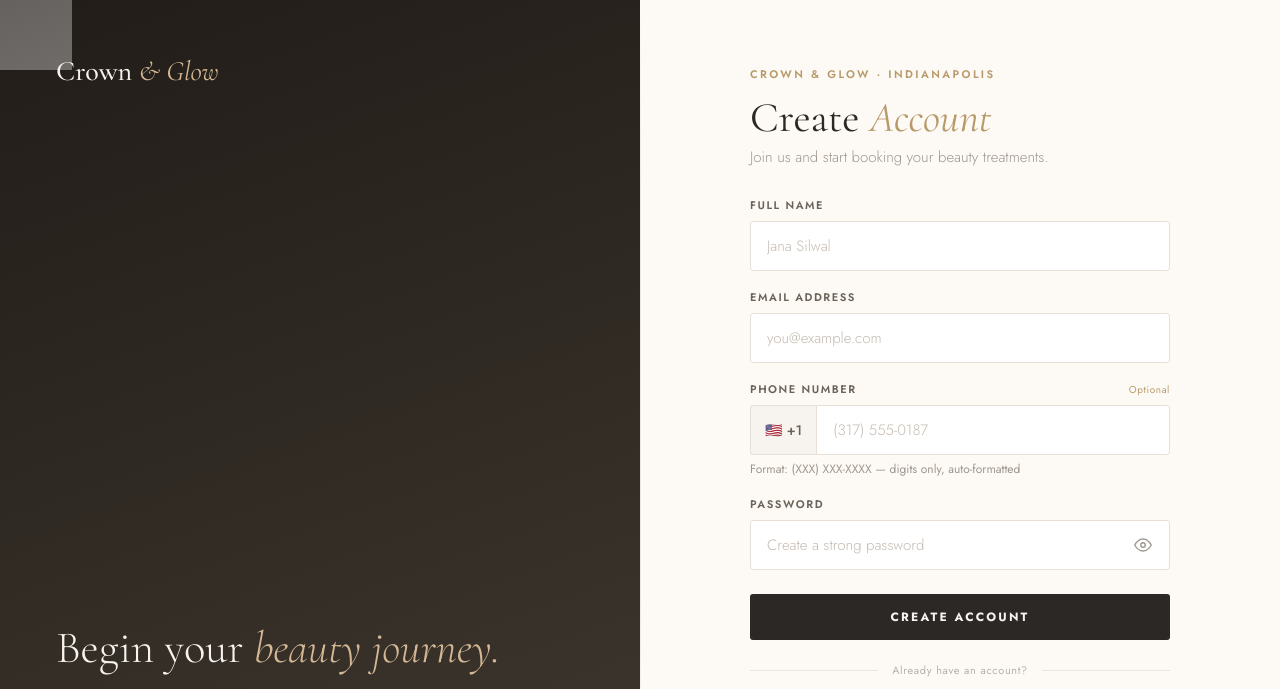
Test case: <RegisterPage /> › registers successfully and shows the check-your-email confirmation
Type "Jane Doe" into the field labelled "Full Name".
click(960, 246); type("Jane Doe")  # box [750, 221, 1170, 271]
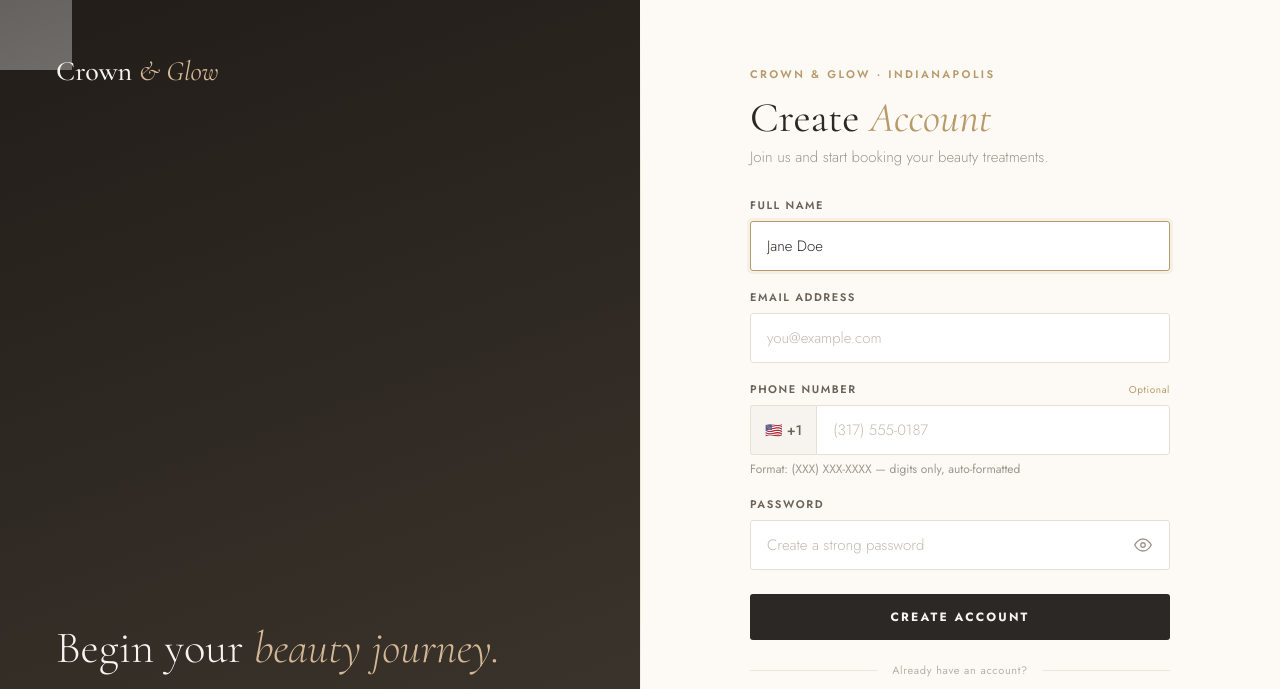
Type "jane@example.com" into the field labelled "Email Address".
click(960, 338); type("jane@example.com")  # box [750, 313, 1170, 363]
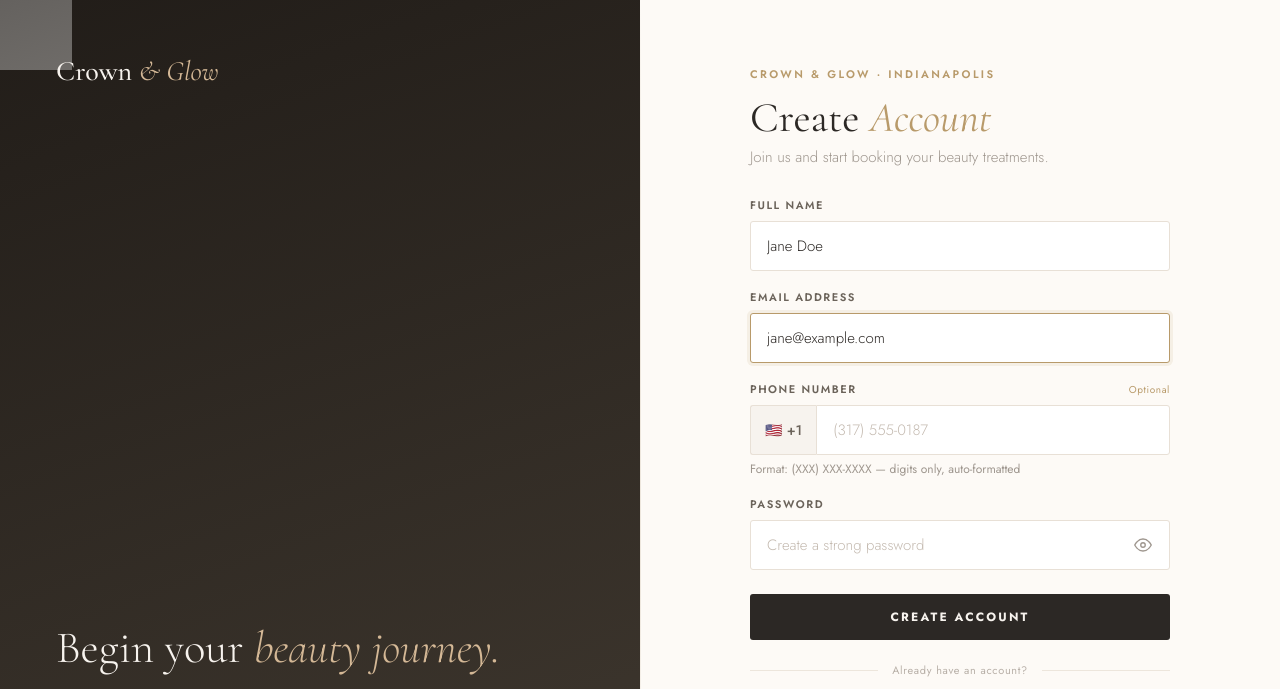
Type "TestPass123!" into the password field labelled "Password".
click(960, 545); type("TestPass123!")  # box [750, 520, 1170, 570]
(page scrolled)
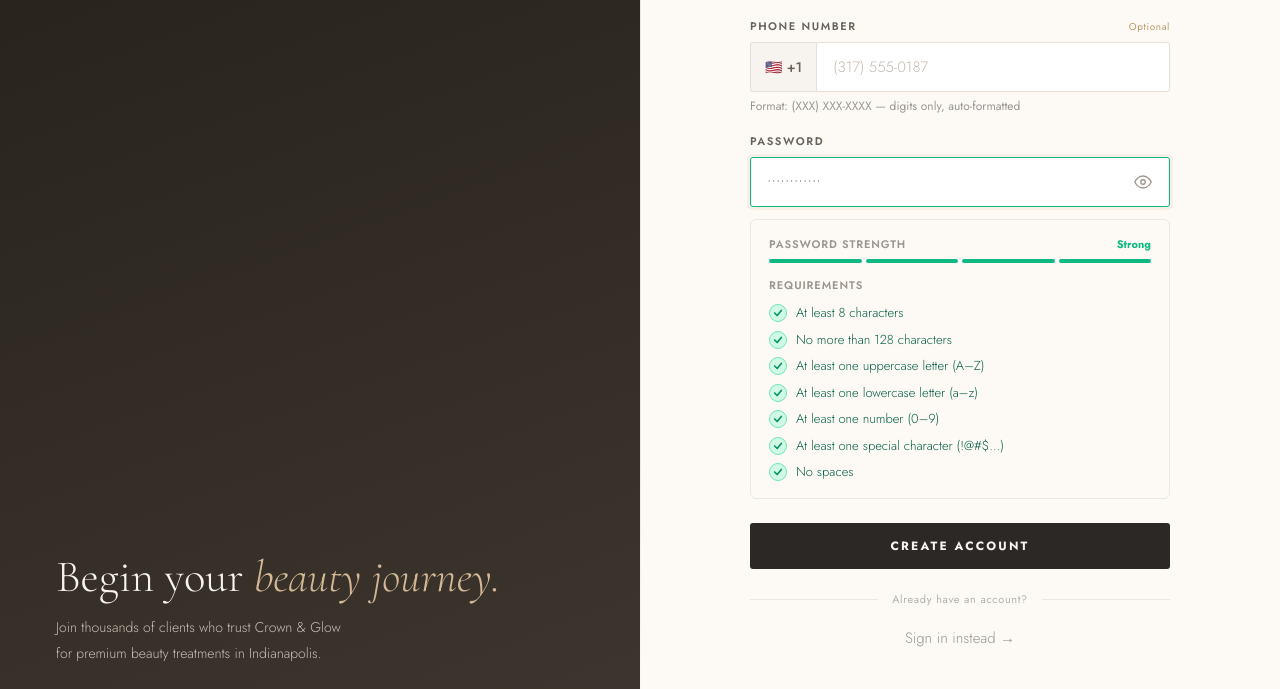
Click the button "Create Account".
click(960, 546)  # box [750, 523, 1170, 569]
(page scrolled)
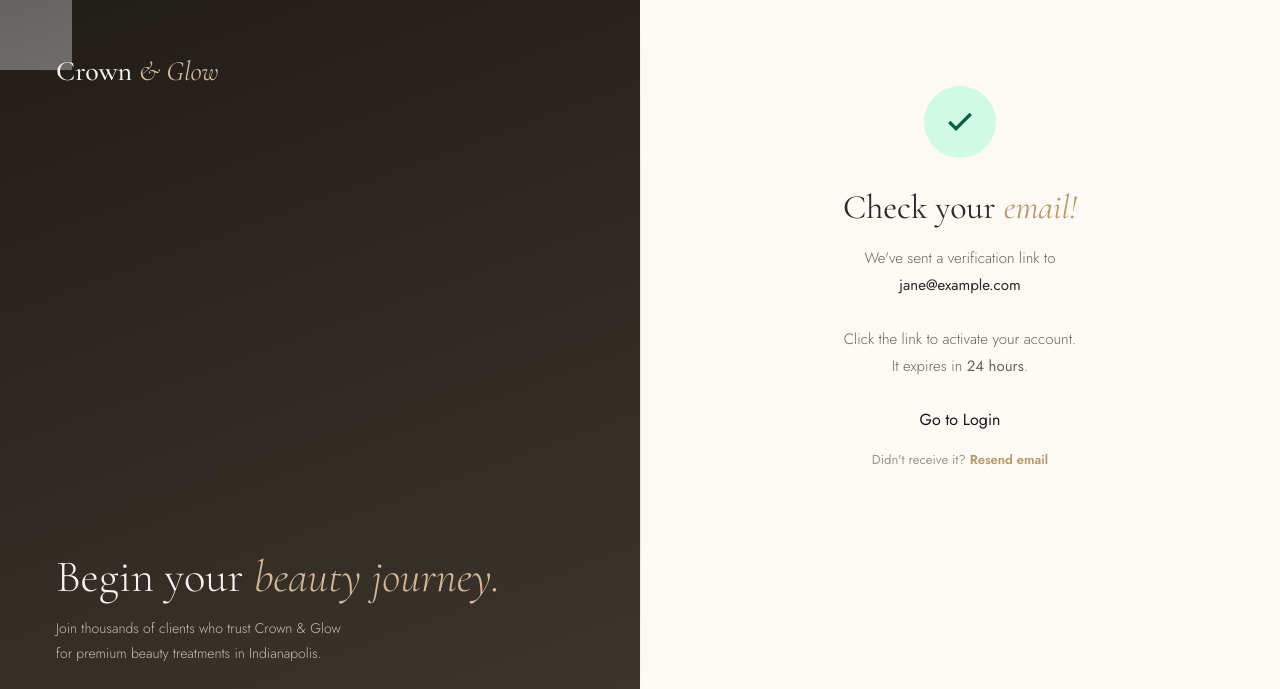
Now the heading "Check your email!" is shown, box [843, 187, 1077, 228]
Now the text "jane@example.com" is shown, box [899, 274, 1021, 296]
